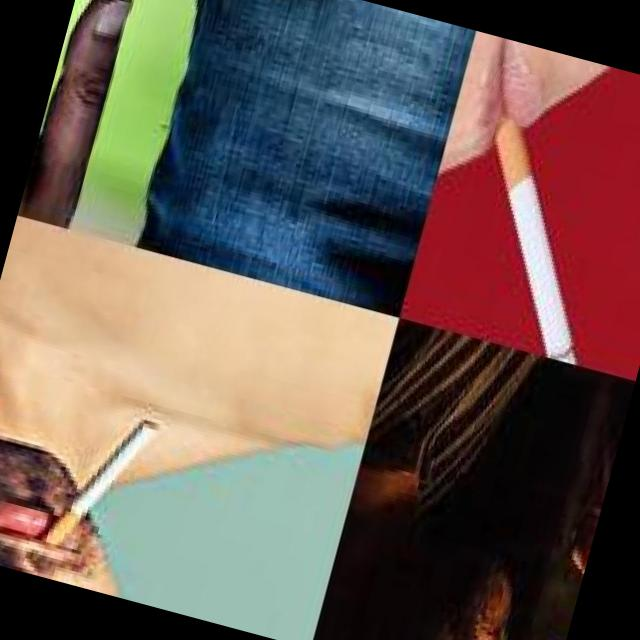smoke: (429, 79, 640, 369), (31, 397, 161, 572), (485, 620, 564, 640)
